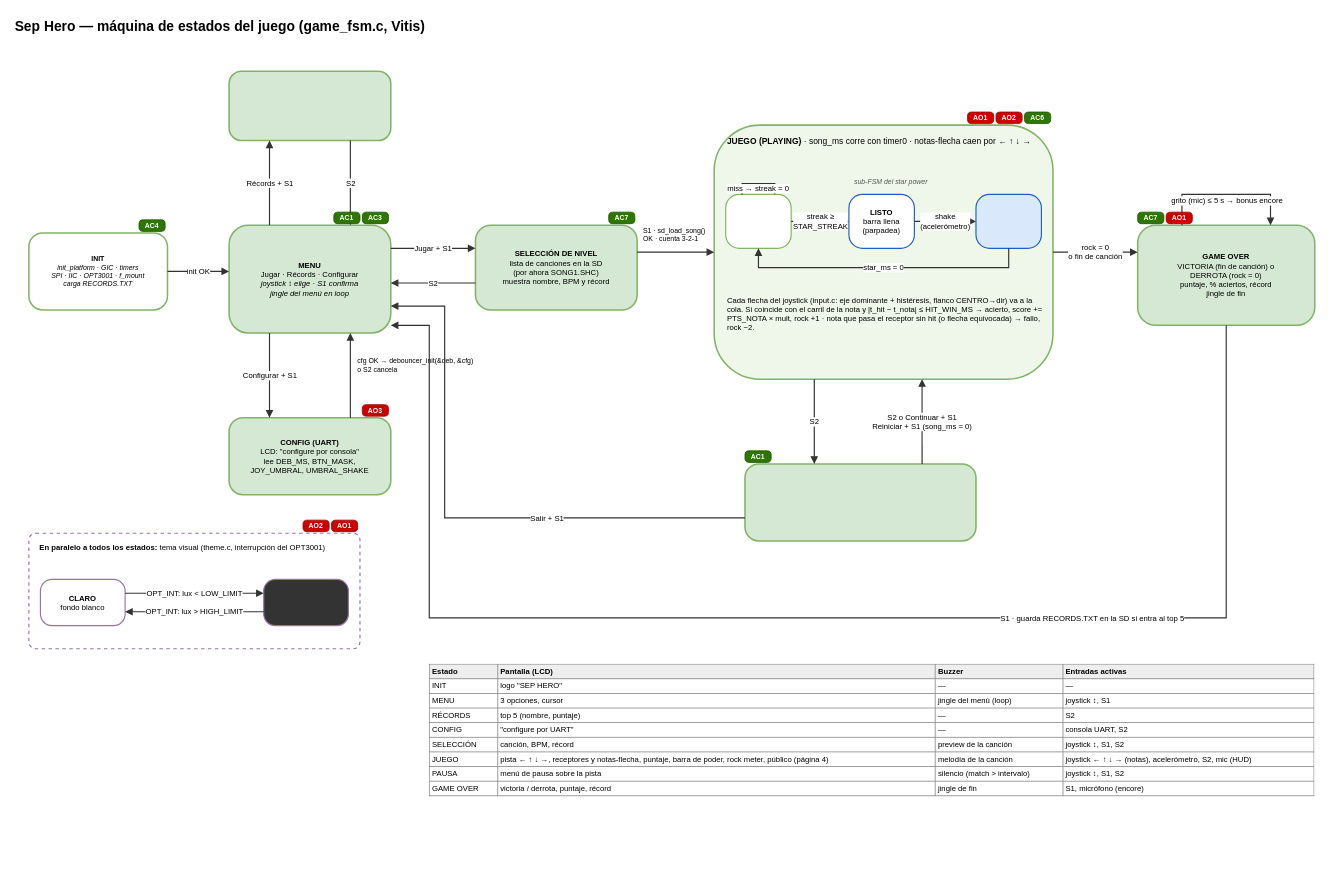
Some shapes in this 1328 by 869 pixel diagram are drawn without their labels. The shapes that lost their labels are listed below. From the top down, each one's box as (x1, y1, x2, y2) in pixels, then its label:
(228, 70, 391, 141): RÉCORDS top 5 leído de la SD
(725, 194, 791, 249): CARGANDO barra según streak
(975, 194, 1042, 249): ACTIVO 20 s · ×2 notas azules
(744, 463, 976, 541): PAUSA song_ms detenido · buzzer en silencio Continuar · Reiniciar · Salir
(263, 579, 349, 626): OSCURO fondo negro
